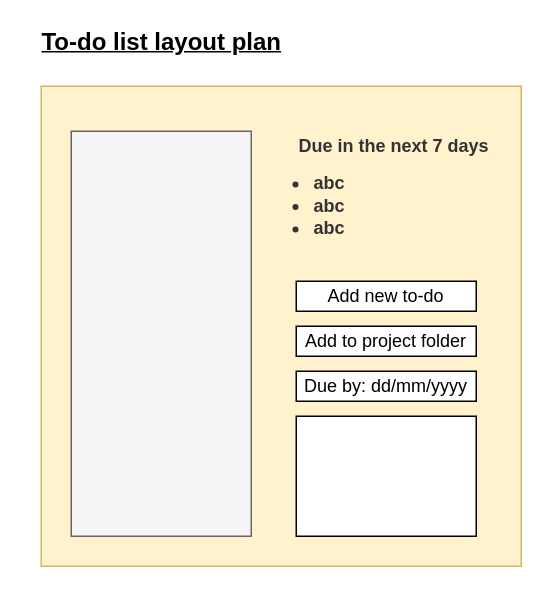
The diagram is 548 pixels wide and 593 high, and some of its shapes have lost their labels. The centre of each missing label's shape, as x and y in pixels:
Description/ notes of to-do item (optional): pixel 385 475
List of projects: (sidebar navigation through project list): pixel 160 333
